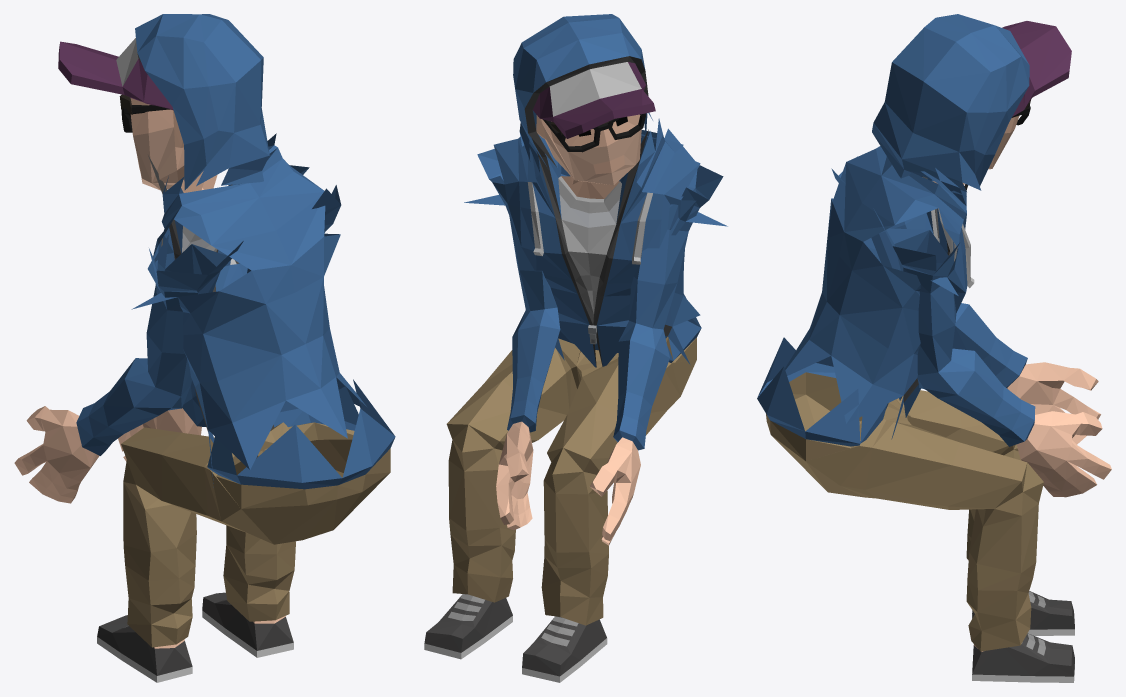
Rendered from Medic_looks.obj.
3 views of the same model, side by side, from view 1: azimuth 30°, elevation 25°; view 2: azimuth 150°, elevation 25°; view 3: azimuth 270°, elevation 25° (orthographic). The views are drawn at different scales.
Visible parts, largest first — view 1: Medic_looks; view 2: Medic_looks; view 3: Medic_looks.
Boxes of the visible parts, x1,y1,x2,y2 form: Medic_looks: (14,14,395,682); Medic_looks: (424,14,727,682); Medic_looks: (757,14,1111,682).
Bounding box in the file's own units: 0.5536 × 1.45 × 0.7695.
Materials: 1 (1 with a texture image).
